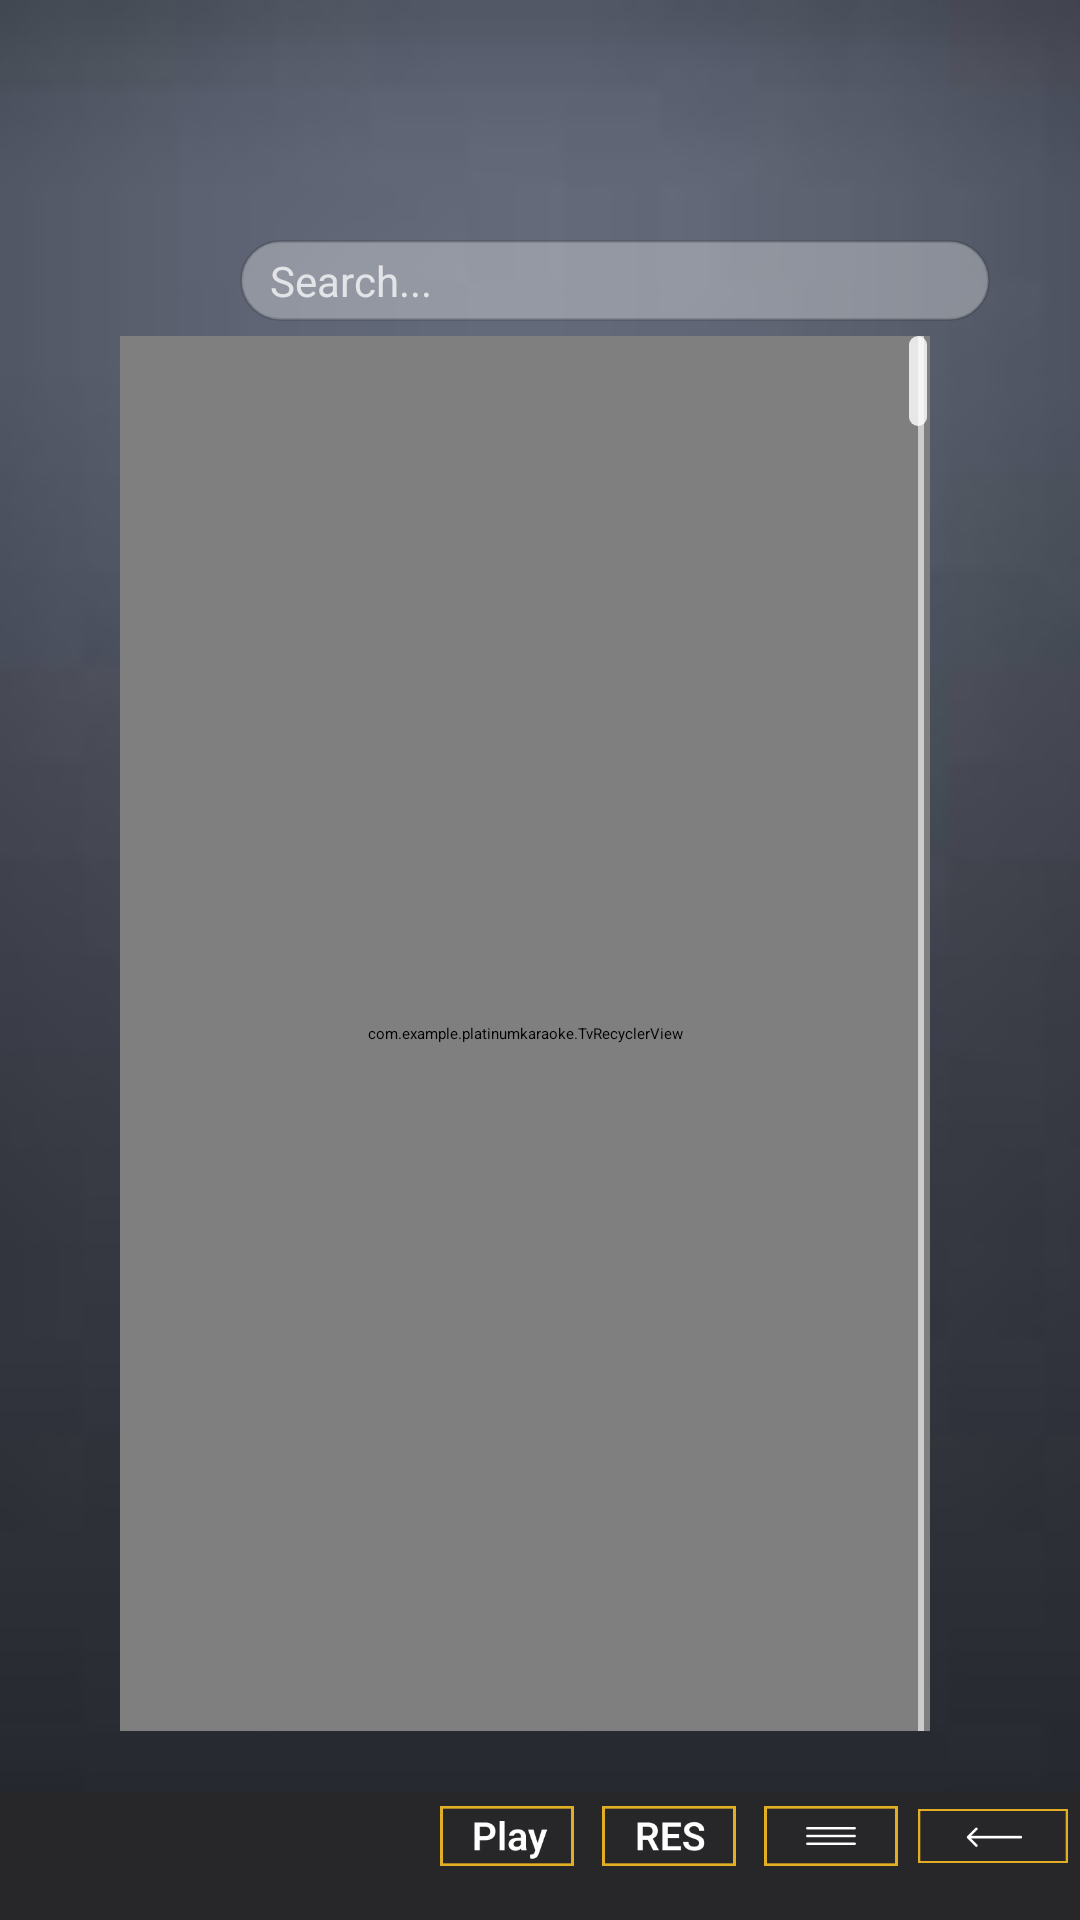

Where to tap for icons on this 1080x1920 app screen, as point (x, y):
guide exit: point (993, 1836)
